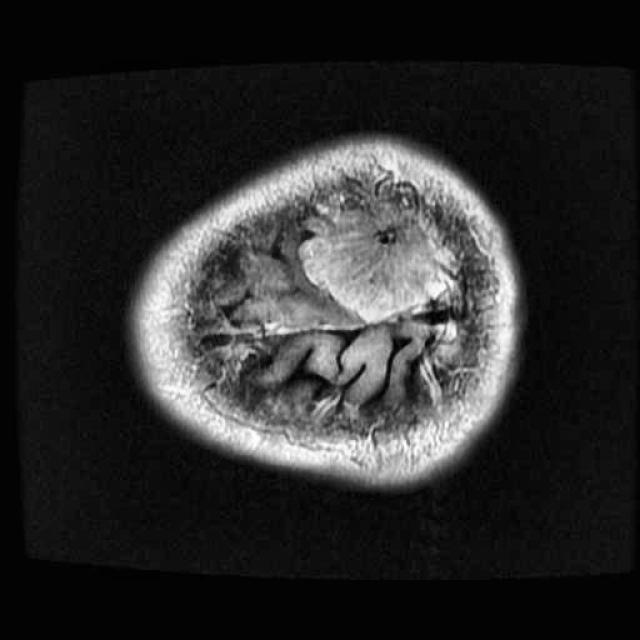Tumor: (286, 180, 465, 340)
